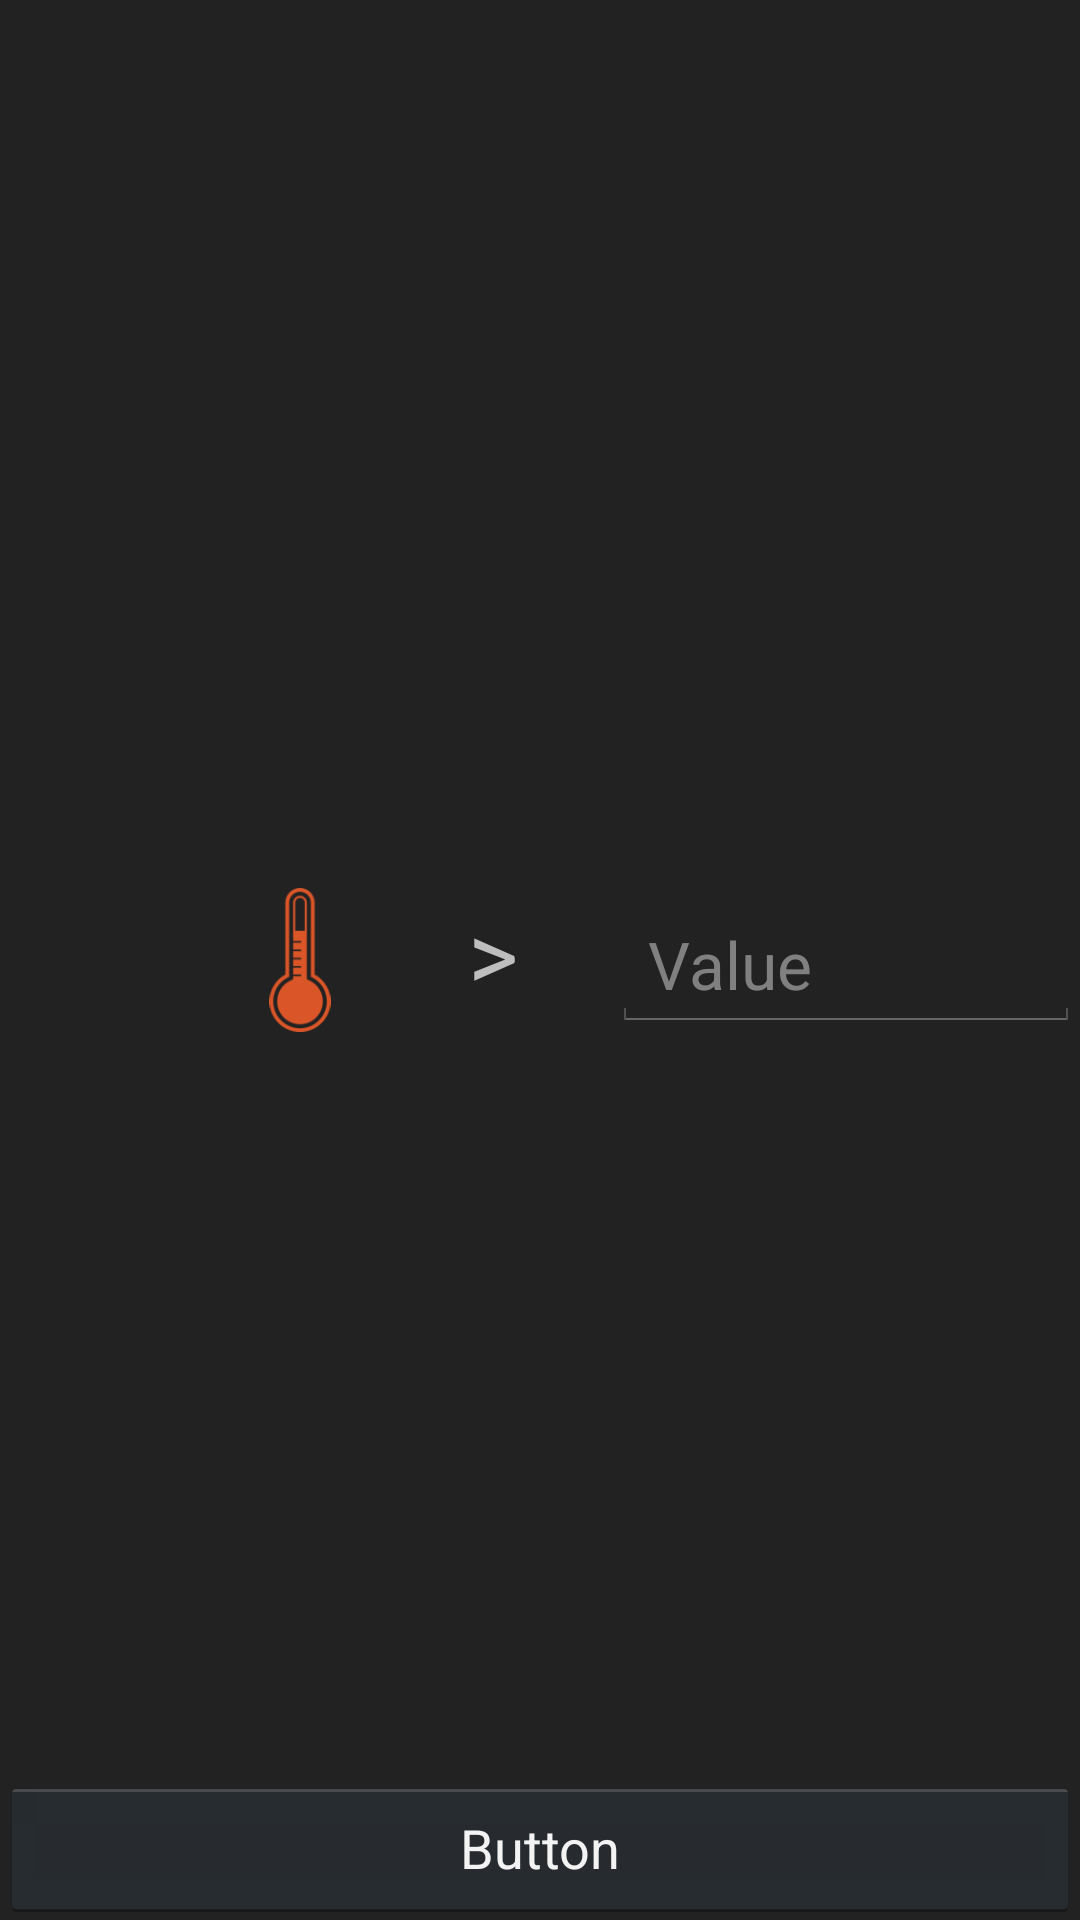

Screen size 1080 × 1920. Icon name, then its box in pixels as (x1, y1, x2, y2):
temperature: (269, 888, 331, 1032)
